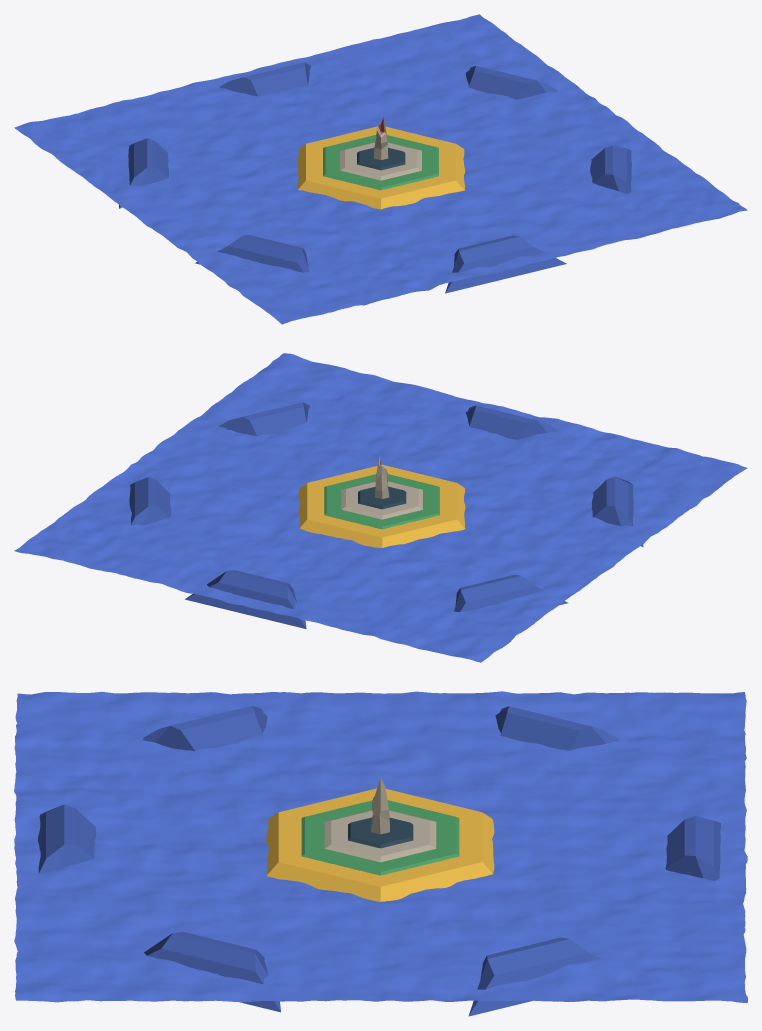
The model's file is GodPlease.fbx.
3 renders of one model, top to bottom at view 1: azimuth 30°, elevation 25°; view 2: azimuth 150°, elevation 25°; view 3: azimuth 270°, elevation 25°, orthographic. The views are drawn at different scales.
Parts seen in each view (by area): view 1: Sea, Wave.002, Wave.001, Wave.005, Wave.003, Wave.004, Wave.006, Sand.001, Sand.006, Sand.002, Sand.005, Sand.004 (+3 smaller); view 2: Sea, Wave.003, Wave.004, Wave.002, Wave.006, Wave.001, Wave.005, Sand.004, Sand.005, Sand.003, Sand.006, Sand.001 (+3 smaller); view 3: Sea, Wave.005, Wave.006, Wave.001, Wave.004, Wave.002, Wave.003, Sand.002, Sand.003, Sand.001, Sand.004, Sand.006 (+10 smaller).
Boxes of the visible parts, left/top/right/bottom form: Sea: left=14, top=14, right=747, bottom=324; Wave.002: left=445, top=235, right=566, bottom=293; Wave.001: left=195, top=235, right=309, bottom=272; Wave.005: left=465, top=65, right=558, bottom=99; Wave.003: left=219, top=62, right=311, bottom=96; Wave.004: left=119, top=138, right=168, bottom=208; Wave.006: left=590, top=145, right=631, bottom=193; Sand.001: left=381, top=176, right=464, bottom=209; Sand.006: left=298, top=176, right=380, bottom=209; Sand.002: left=439, top=144, right=465, bottom=189; Sand.005: left=297, top=144, right=322, bottom=189; Sand.004: left=306, top=126, right=378, bottom=147; Sea: left=14, top=353, right=747, bottom=662; Wave.003: left=185, top=570, right=306, bottom=628; Wave.004: left=454, top=574, right=568, bottom=611; Wave.002: left=466, top=405, right=557, bottom=439; Wave.006: left=219, top=402, right=309, bottom=435; Wave.001: left=591, top=476, right=643, bottom=546; Wave.005: left=129, top=477, right=171, bottom=525; Sand.004: left=299, top=515, right=382, bottom=547; Sand.005: left=382, top=515, right=464, bottom=547; Sand.003: left=298, top=483, right=324, bottom=527; Sand.006: left=440, top=483, right=465, bottom=528; Sand.001: left=382, top=464, right=456, bottom=486; Sea: left=14, top=691, right=747, bottom=1003; Wave.005: left=468, top=937, right=600, bottom=1016; Wave.006: left=144, top=932, right=280, bottom=1012; Wave.001: left=142, top=705, right=267, bottom=750; Wave.004: left=495, top=706, right=619, bottom=750; Wave.002: left=38, top=804, right=96, bottom=873; Wave.003: left=665, top=816, right=720, bottom=881; Sand.002: left=267, top=856, right=380, bottom=901; Sand.003: left=380, top=856, right=492, bottom=901; Sand.001: left=266, top=812, right=301, bottom=875; Sand.004: left=459, top=812, right=494, bottom=873; Sand.006: left=279, top=788, right=376, bottom=817.
Size of the model in its own units: 6230 by 832 by 6238.
